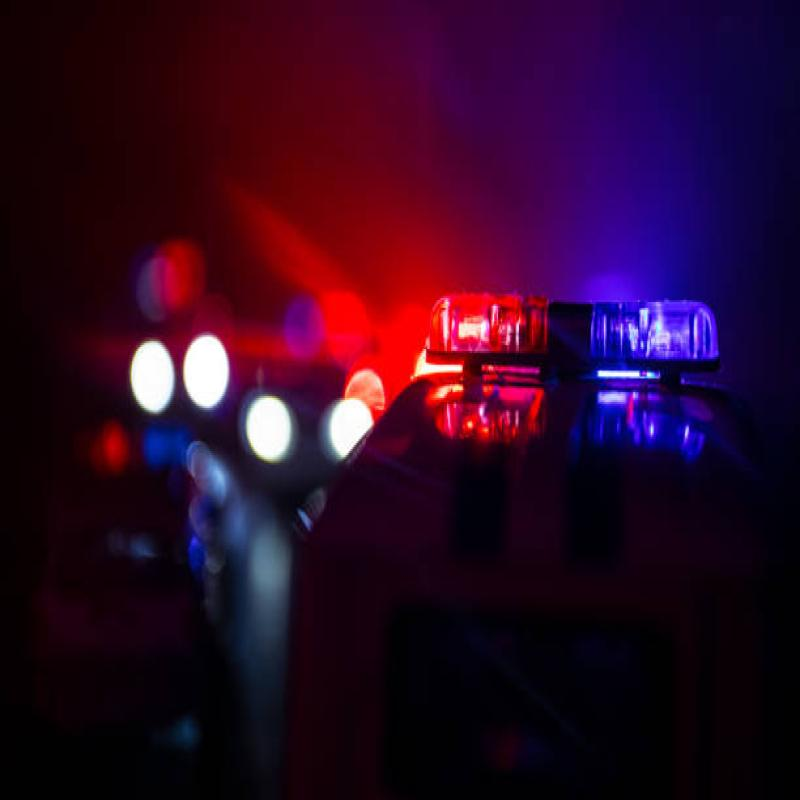AmbulanceSiren: (416, 239, 739, 426)
